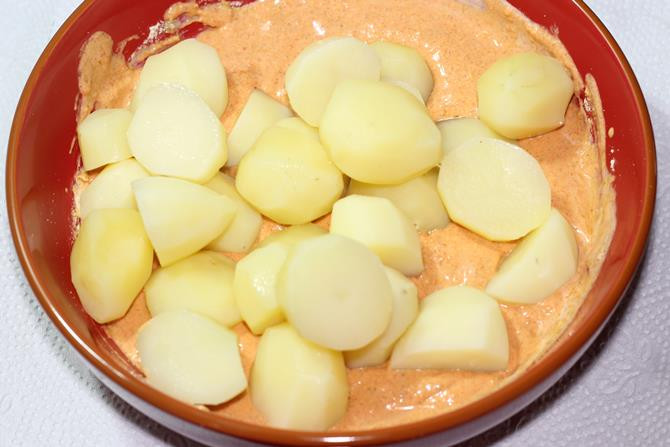boiled potatoes: (74, 50, 583, 402)
